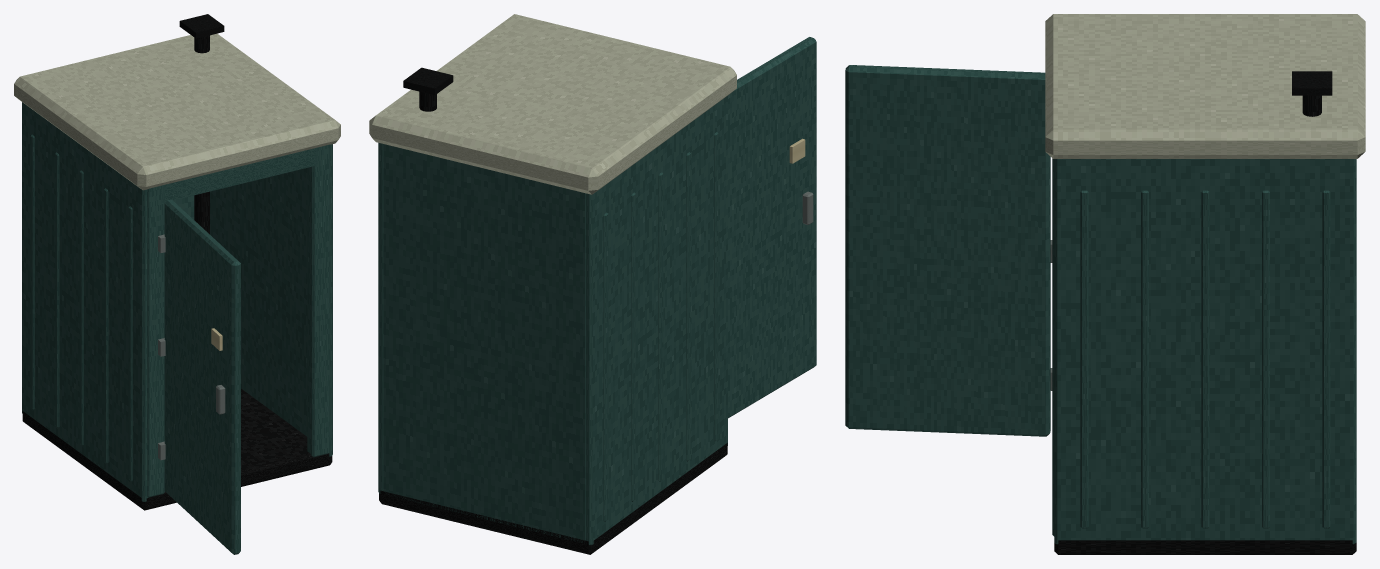
File: level_camp_portable_toilet_open.glb
The picture shows the model from 3 angles, left to right: view 1: azimuth 30°, elevation 25°; view 2: azimuth 150°, elevation 25°; view 3: azimuth 270°, elevation 25°; orthographic projection. The views are drawn at different scales.
Visible parts, largest first — view 1: level_camp_portable_toilet_open; view 2: level_camp_portable_toilet_open; view 3: level_camp_portable_toilet_open.
Part boxes in pixels (bbox=[...]): level_camp_portable_toilet_open: bbox=[14, 14, 340, 554]; level_camp_portable_toilet_open: bbox=[369, 14, 816, 554]; level_camp_portable_toilet_open: bbox=[845, 14, 1365, 554].
Bounding box in the file's own units: 1.44 × 2.52 × 2.58.
5 materials, 5 textured.
